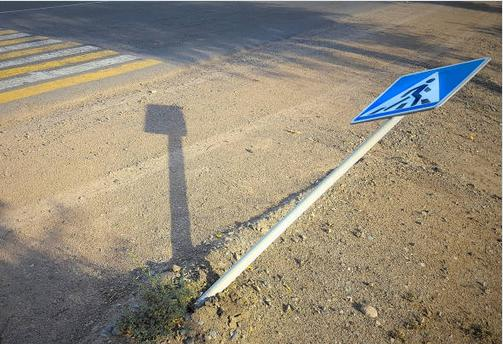road_sign: (352, 57, 490, 123)
